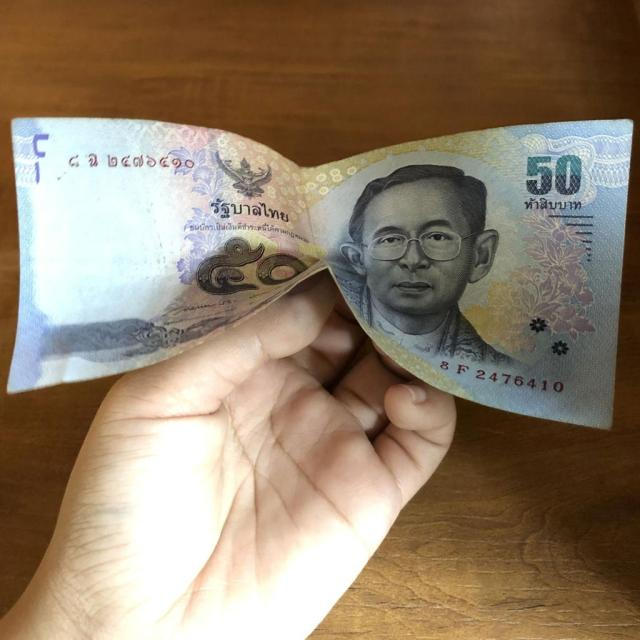THAI50: (7, 118, 634, 431)
